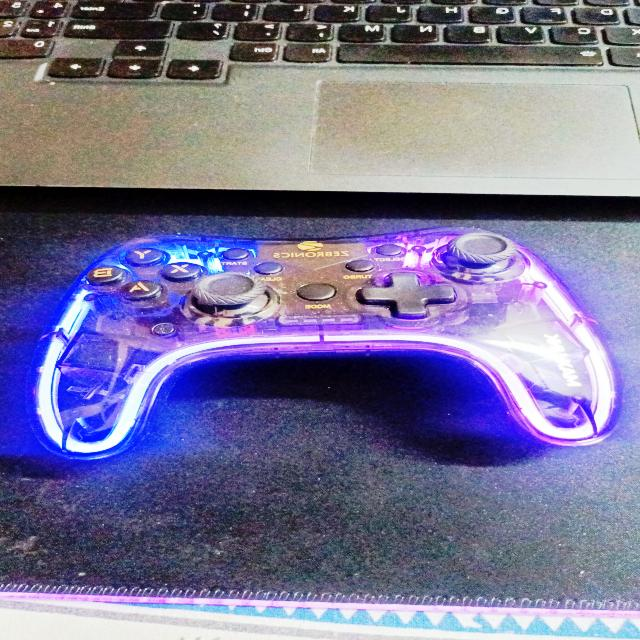gamepad: (25, 226, 625, 462)
